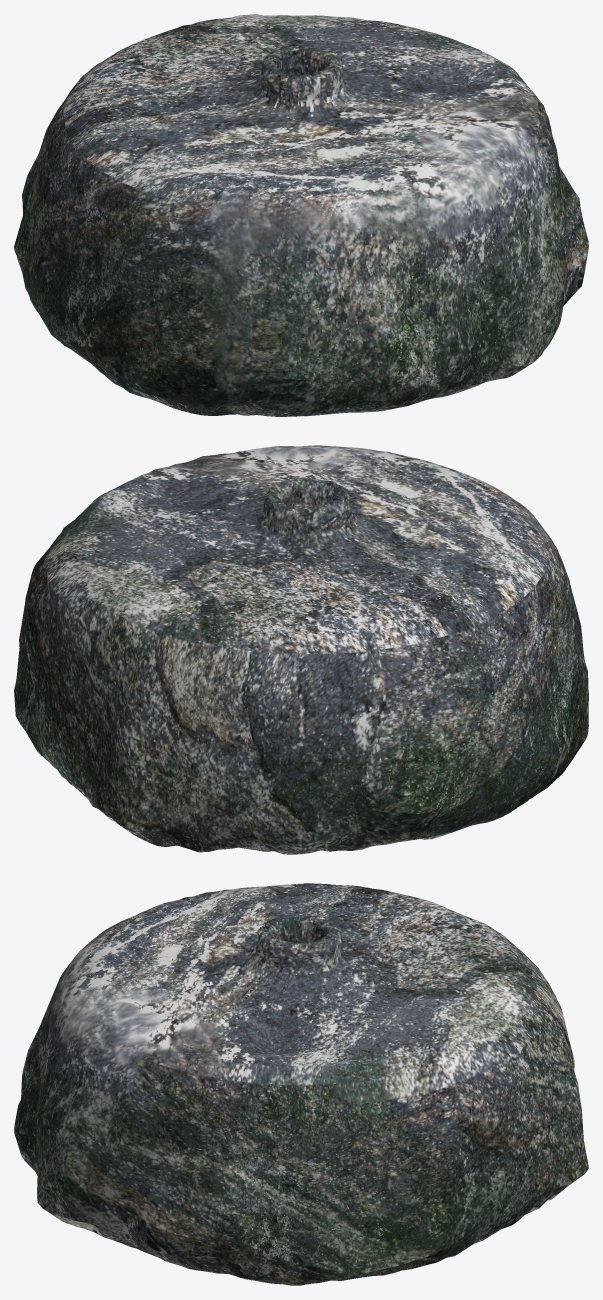
Rendered from rolling_base_low.fbx.
3 views of the same model, one above another, from view 1: azimuth 30°, elevation 25°; view 2: azimuth 150°, elevation 25°; view 3: azimuth 270°, elevation 25° (orthographic). The views are drawn at different scales.
Parts seen in each view (by area): view 1: pCylinder1; view 2: pCylinder1; view 3: pCylinder1.
Boxes of the visible parts, left/top/right/bottom form: pCylinder1: left=14, top=14, right=588, bottom=416; pCylinder1: left=14, top=445, right=588, bottom=854; pCylinder1: left=14, top=883, right=588, bottom=1285.
Bounding box in the file's own units: 3.04 × 1.58 × 3.12.
